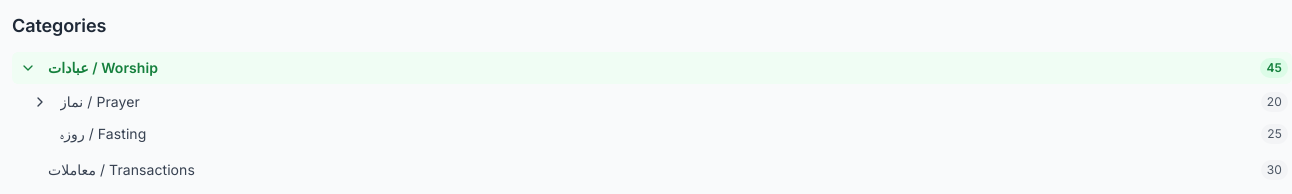
Scenario: CategorySidebar › collapses a category when the collapse button is clicked
Check: the text "نماز / Prayer" is shown, box left=60, top=92, right=140, bottom=112
Click collapse button
Click the button named "Collapse عبادات / Worship" at {"x": 28, "y": 68}, box left=16, top=56, right=40, bottom=80
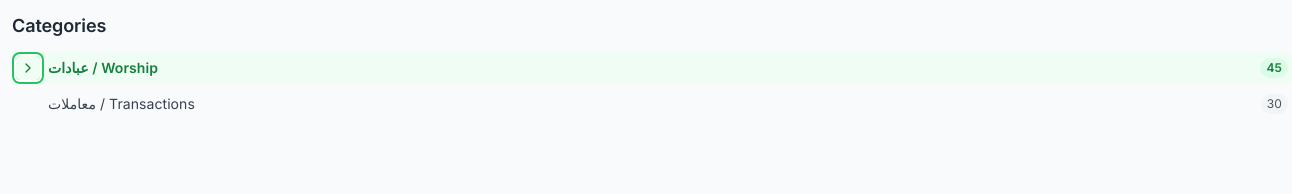
Check: the link "نماز / Prayer" is gone
